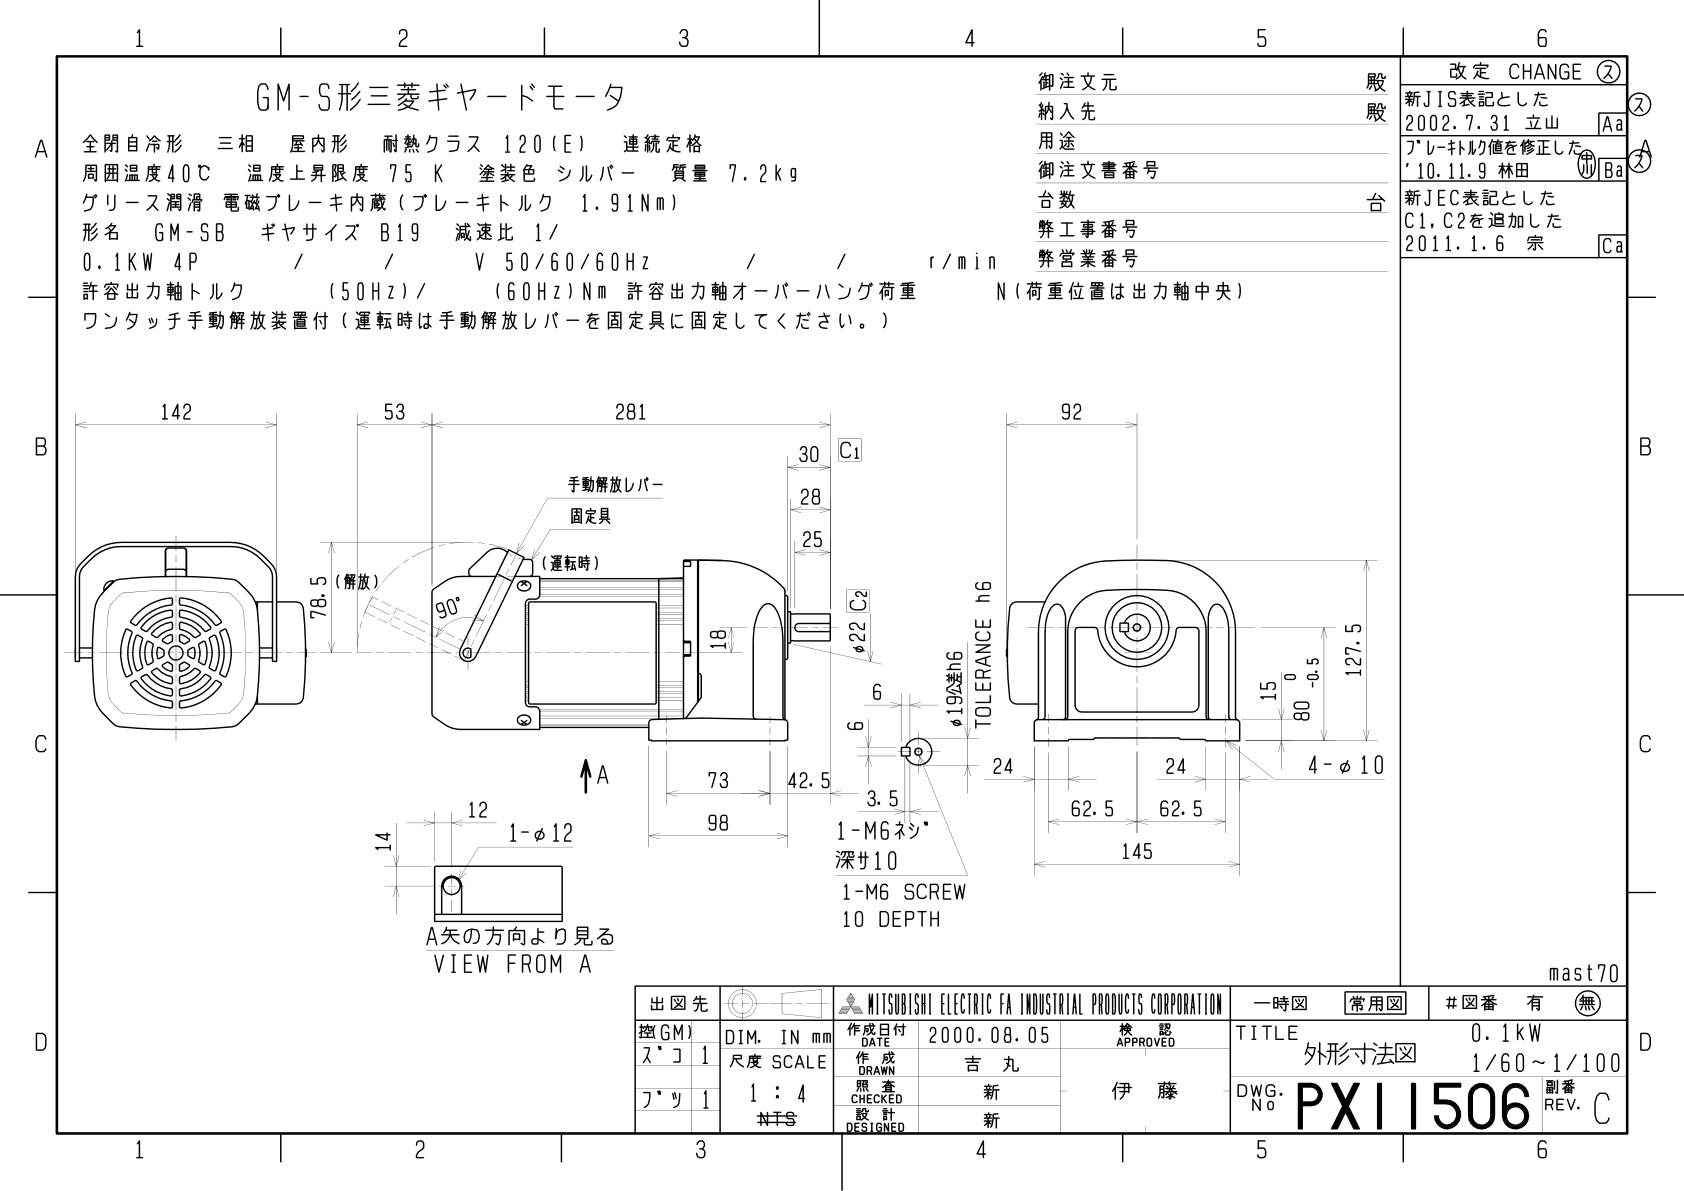GM_S_手動ブレーキ＿三相_脚: (63, 375, 1393, 989)
